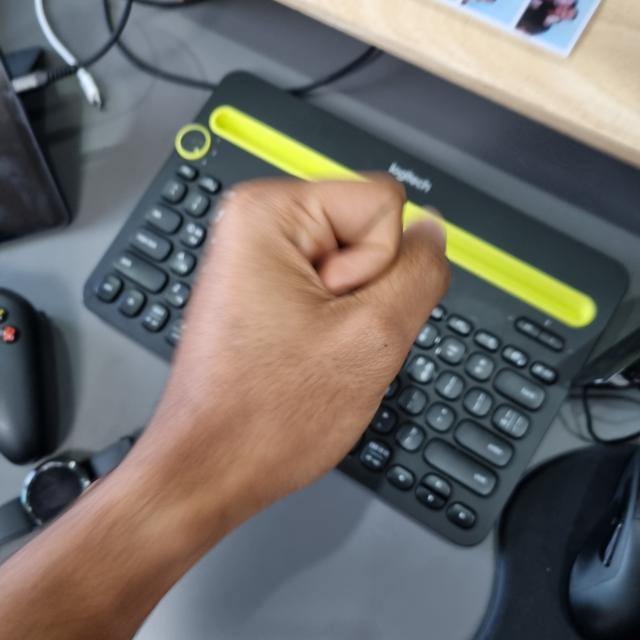Rock: (153, 175, 448, 509)
